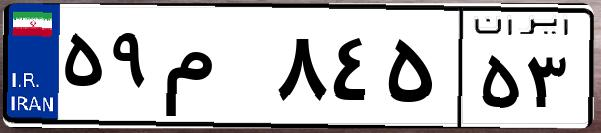3: (525, 38, 570, 115)
4: (330, 28, 385, 110)
5: (385, 28, 445, 110), (57, 26, 110, 100), (475, 38, 525, 113)
8: (270, 28, 330, 110)
9: (110, 28, 158, 98)
م: (158, 20, 270, 120)
